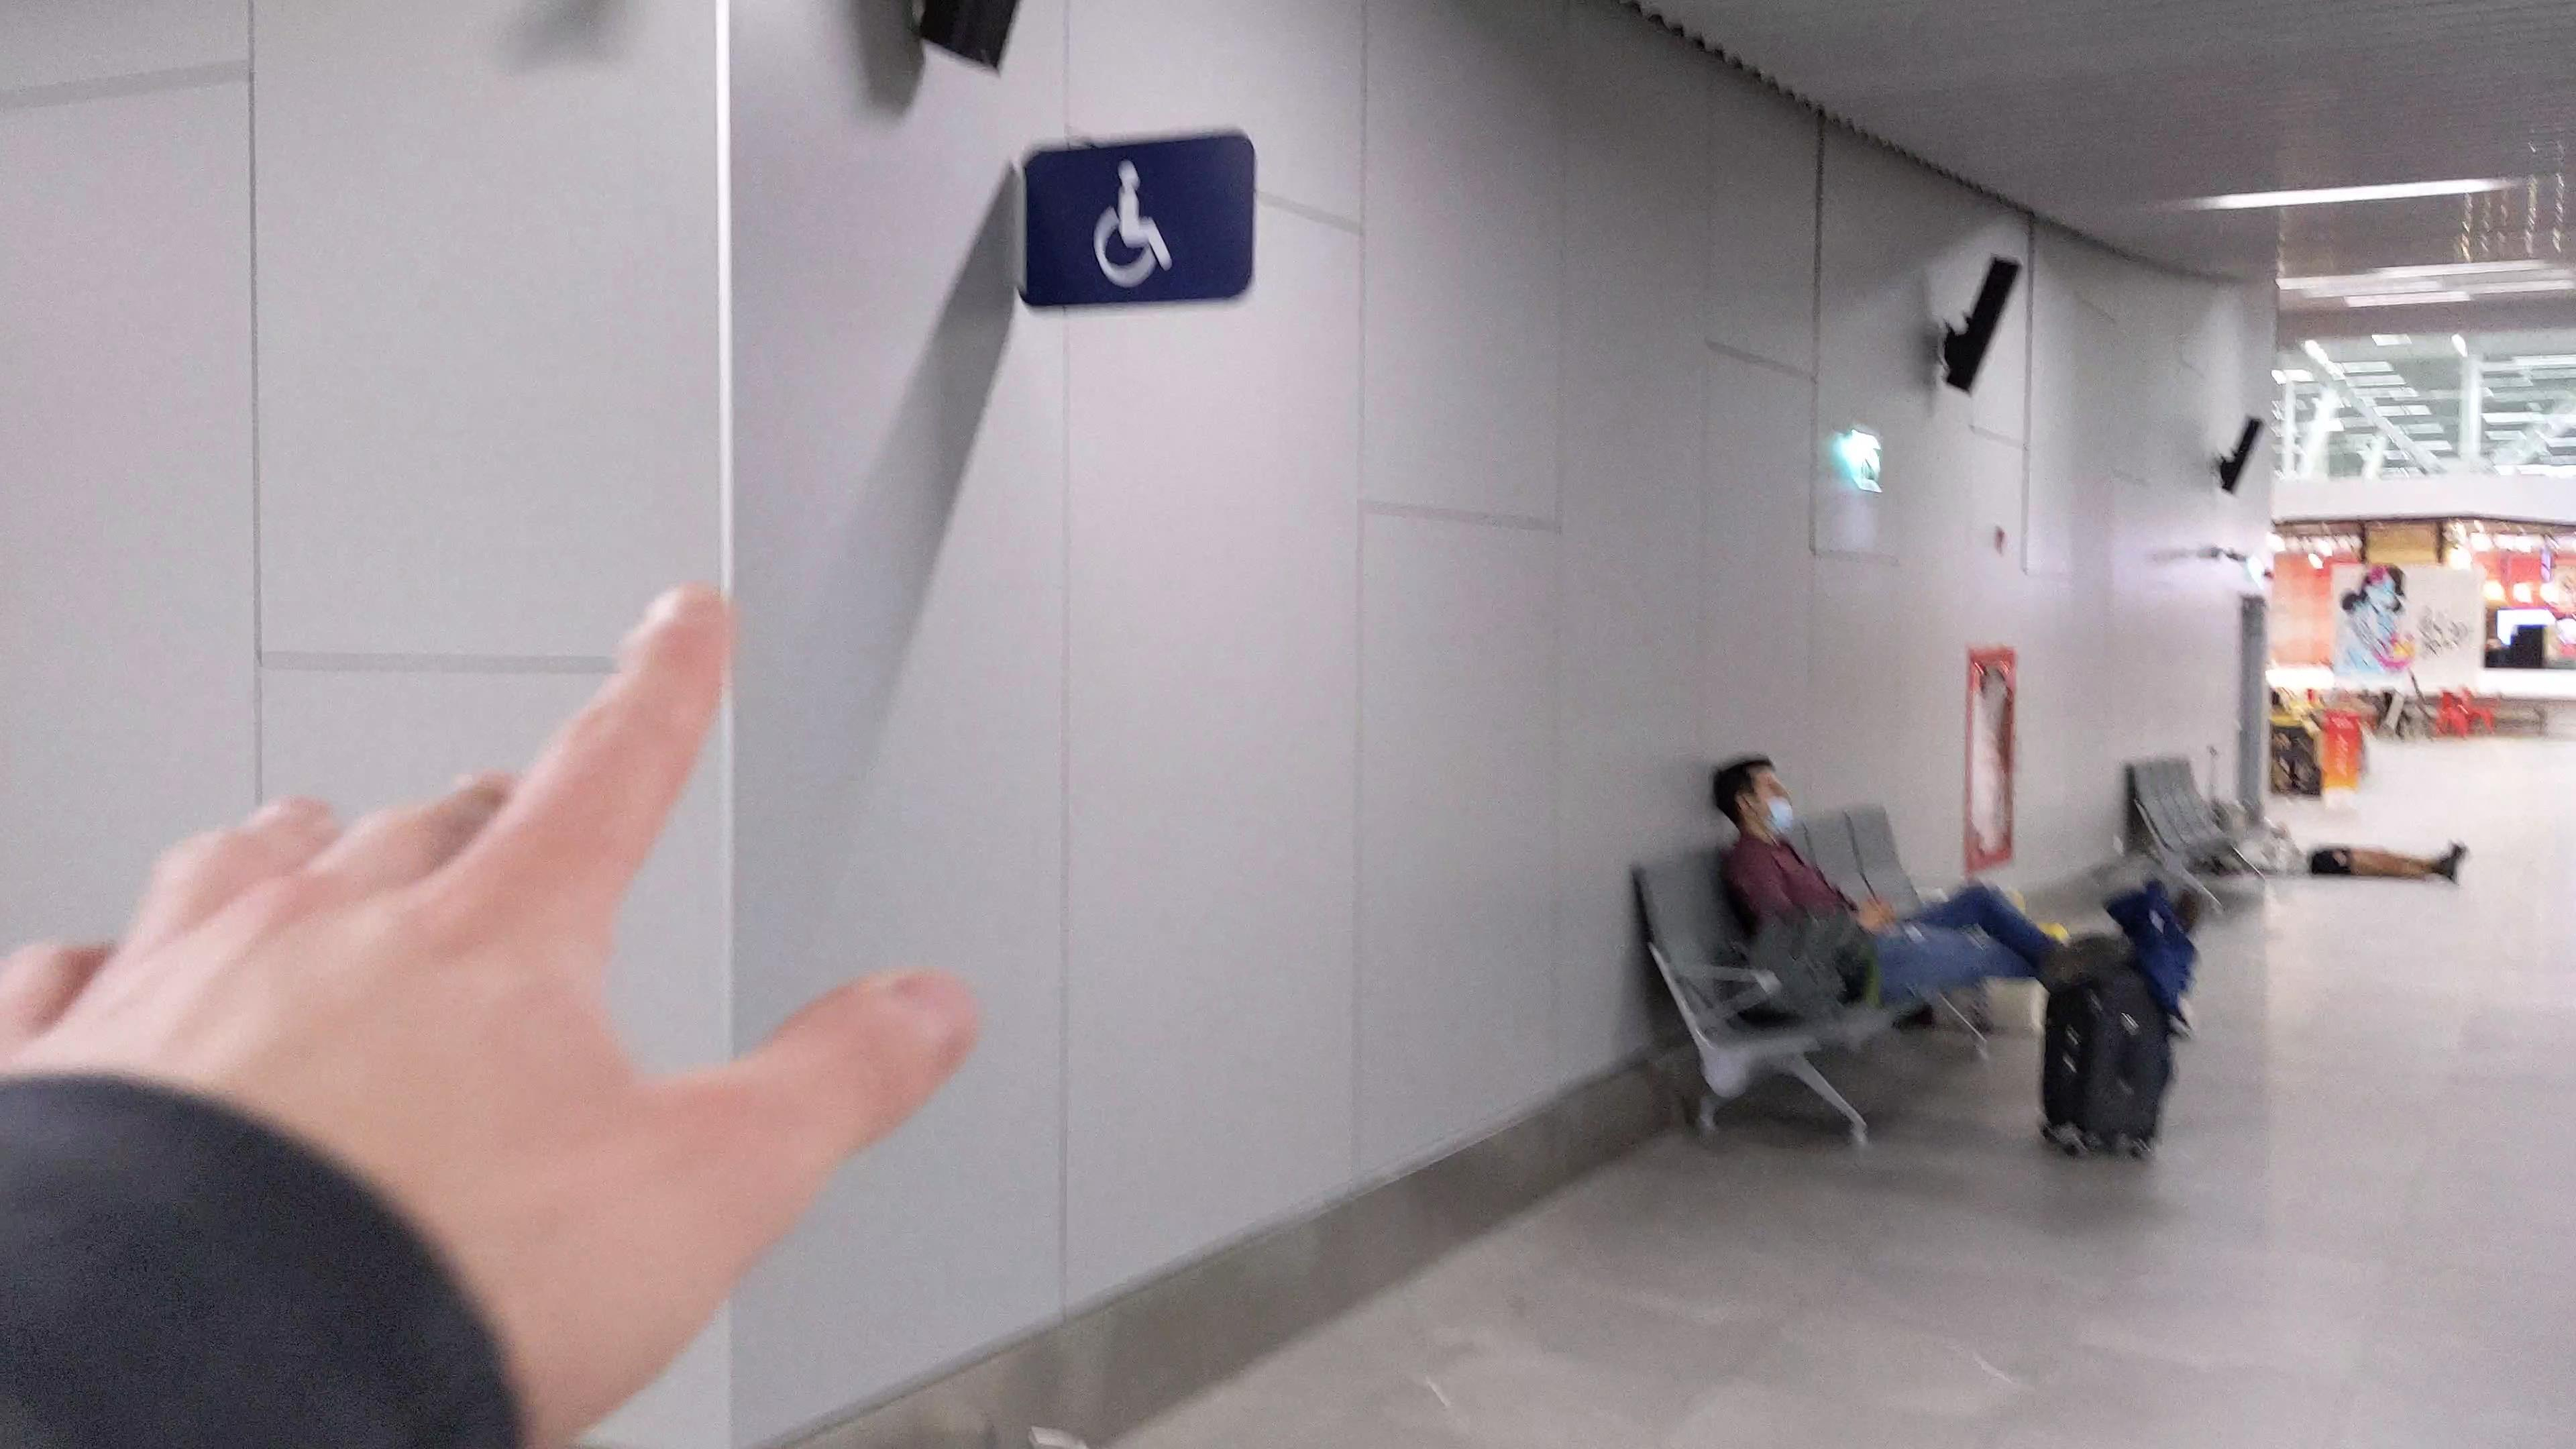handicapped symbol: (1090, 163, 1178, 294)
